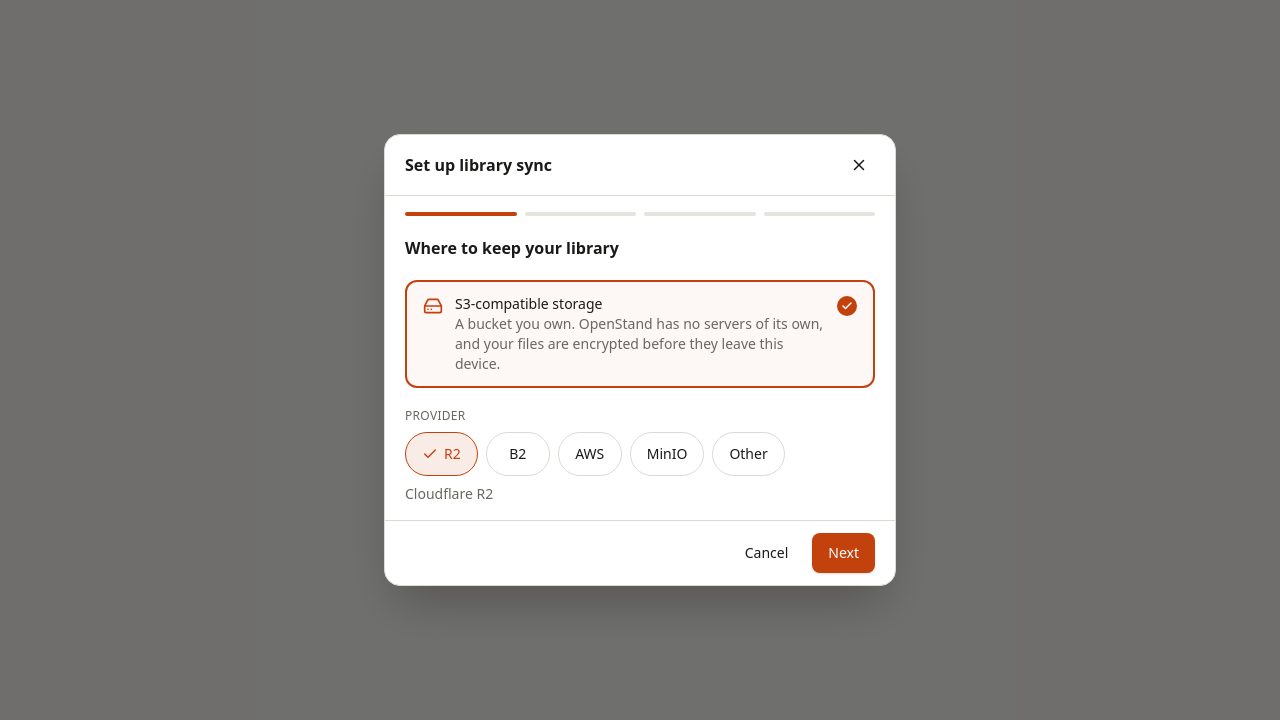
Test: SetupWizard › switching provider changes the fields
What coordinates should you click on to do the following:
click the radio button labelled "B2"
I would click on:
 (518, 454)
Its box is [486,432,550,476].
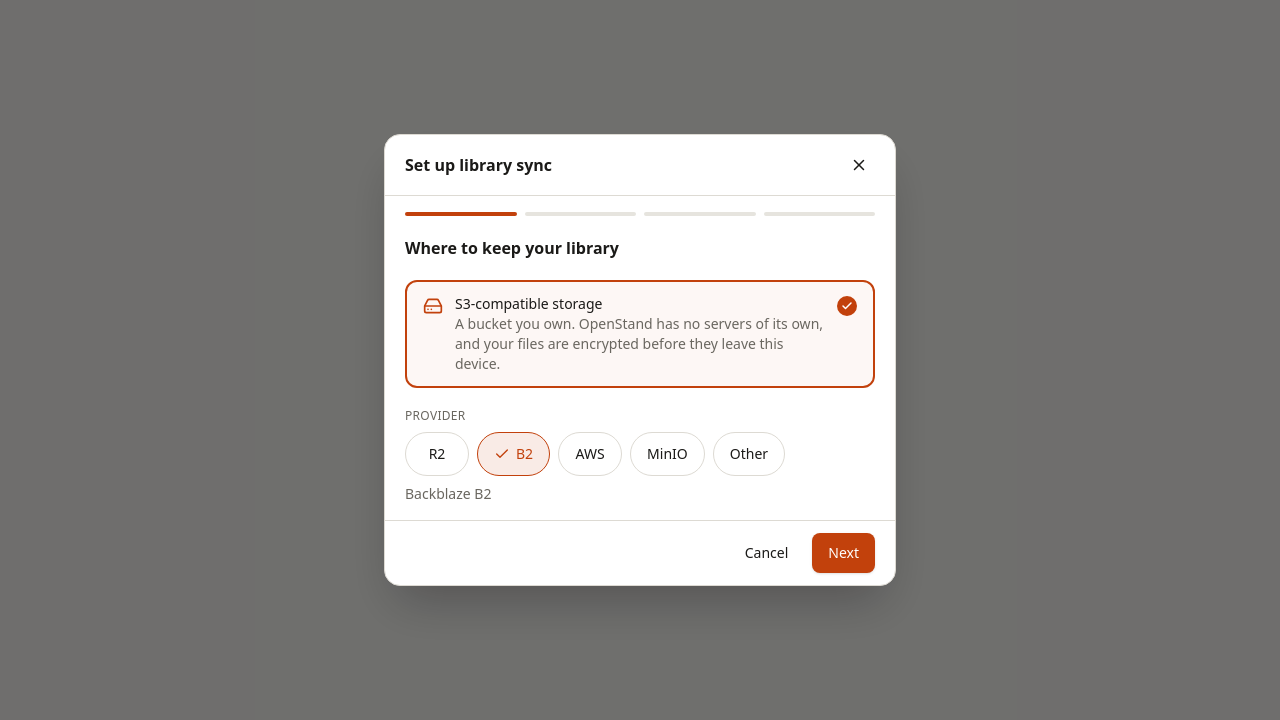
What coordinates should you click on to do the following:
click the button "Next"
I would click on:
 (844, 553)
Its box is [812,533,875,573].
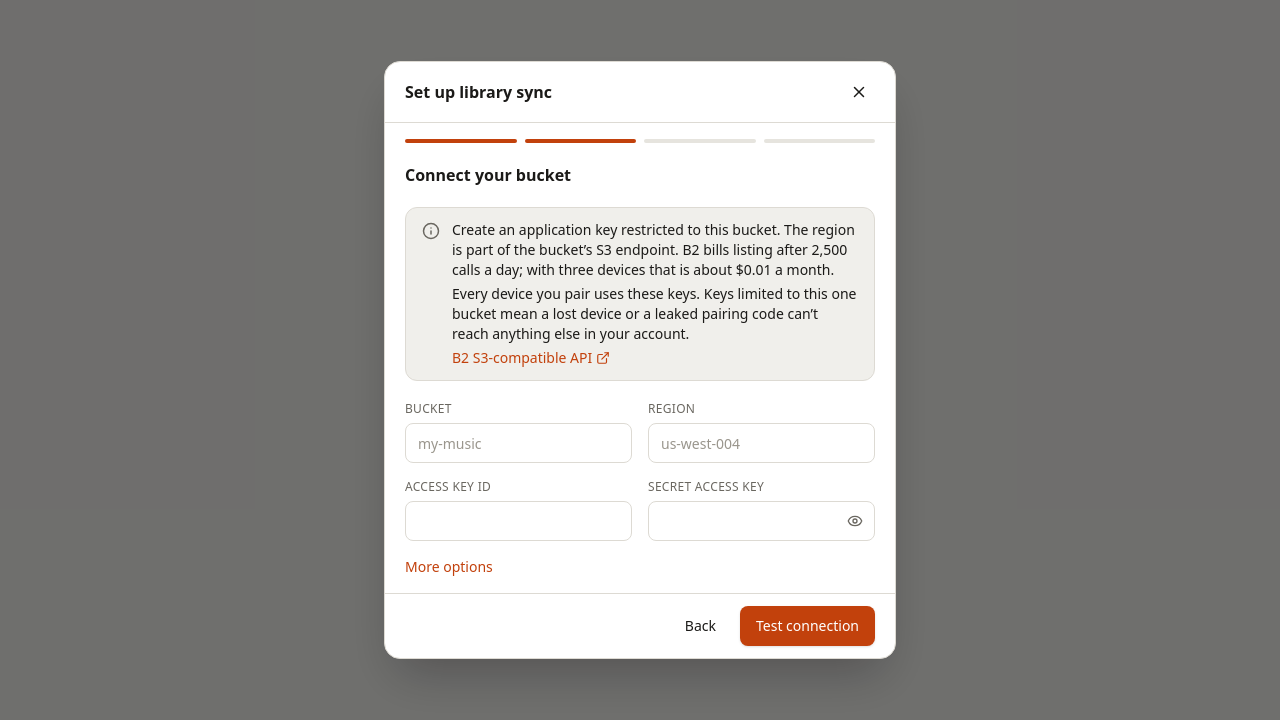
expect the field labelled "Region" is shown: met, box [648,423,875,463]
